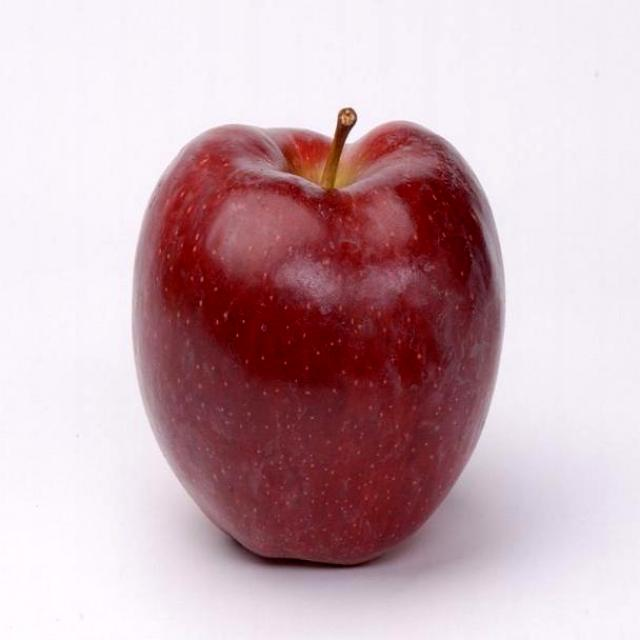HEALTHY: (124, 73, 529, 587)
